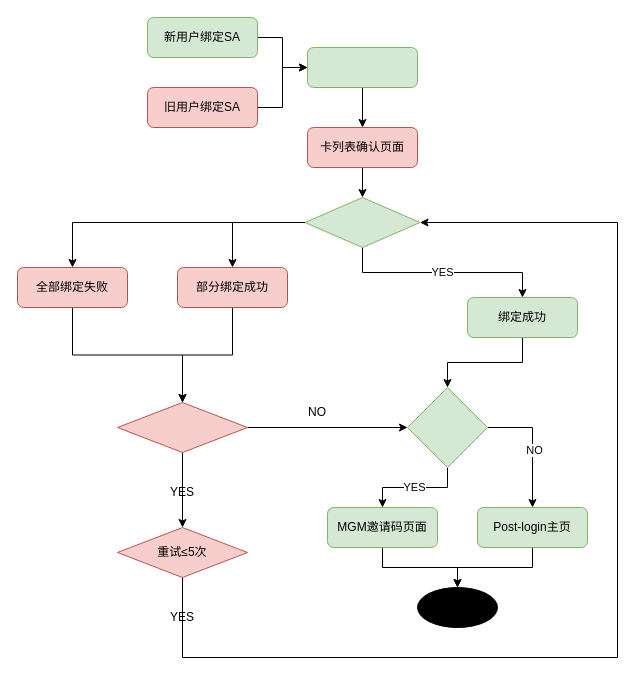
This 643x683 diagram has some shape labels left out. The shapes that lost their labels are listed below. From the top down, each one's box as (x1, y1, x2, y2) in pixels, then its label:
(306, 46, 418, 88): 卡列表页面
(304, 196, 420, 248): 请求EWT 成功
(116, 402, 248, 452): 选择重试
(406, 386, 488, 468): 是否首次注册？
(416, 586, 498, 628): 结束
